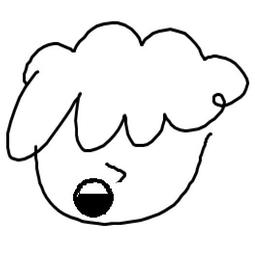open_mouth: (71, 175, 115, 221)
pointy_nose: (105, 155, 132, 183)
